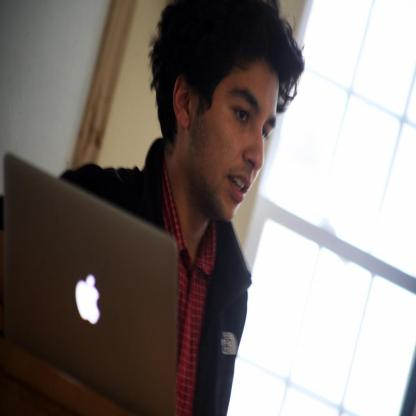board: (4, 151, 178, 416)
